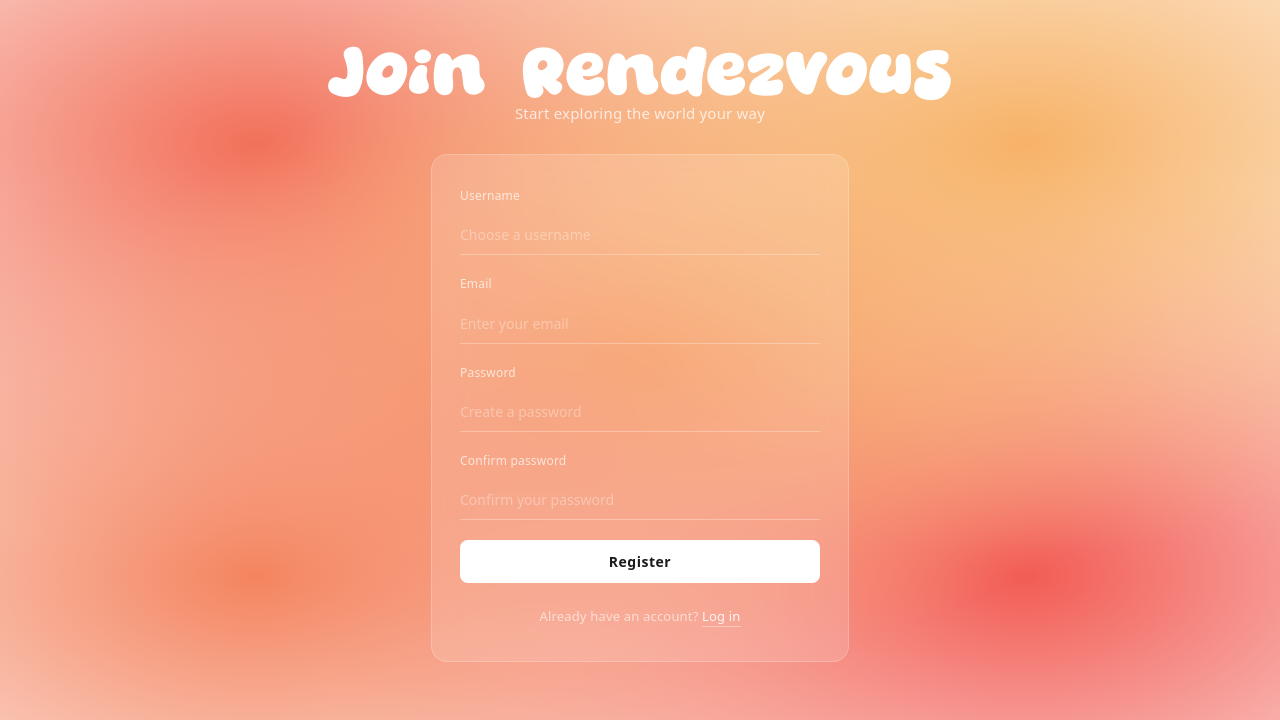
Scenario: Register page › shows error when passwords do not match
This screenshot has width=1280, height=720.
Type "alice" into the field labelled "Username" at (640, 236), box [460,216,820,256]
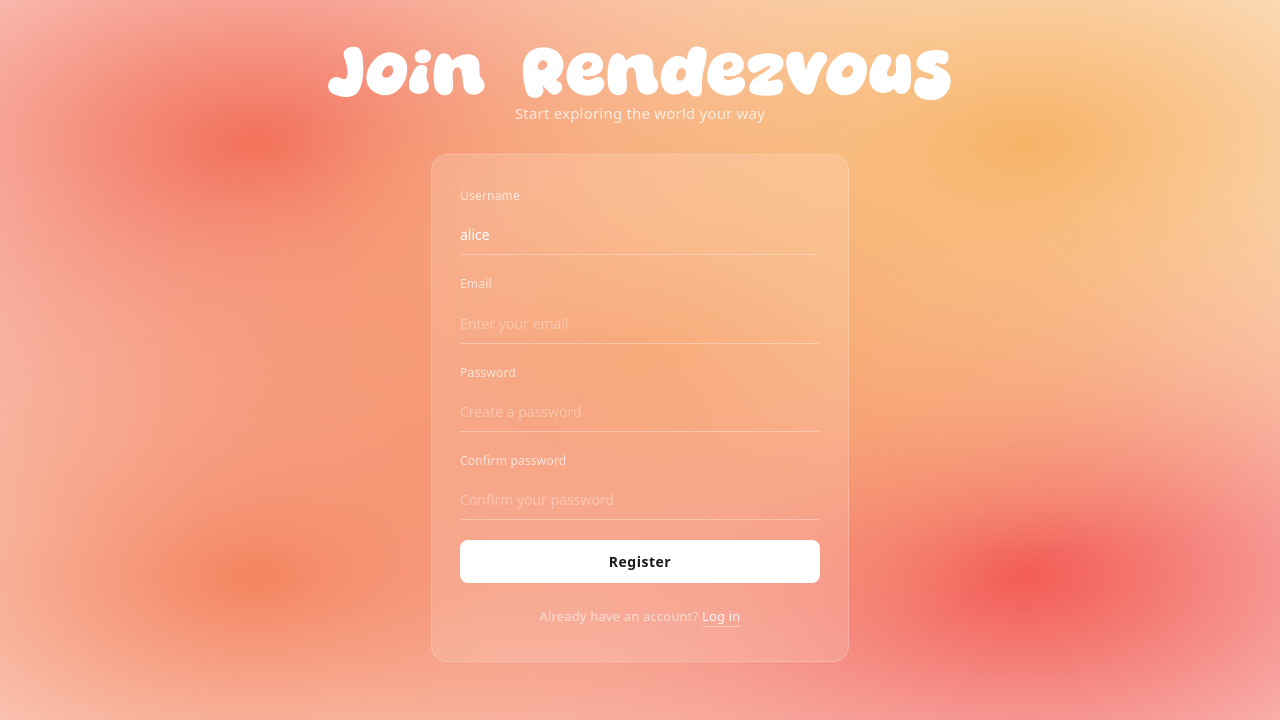
Type "a@b.com" into the field labelled "Email" at (640, 324), box [460,304,820,344]
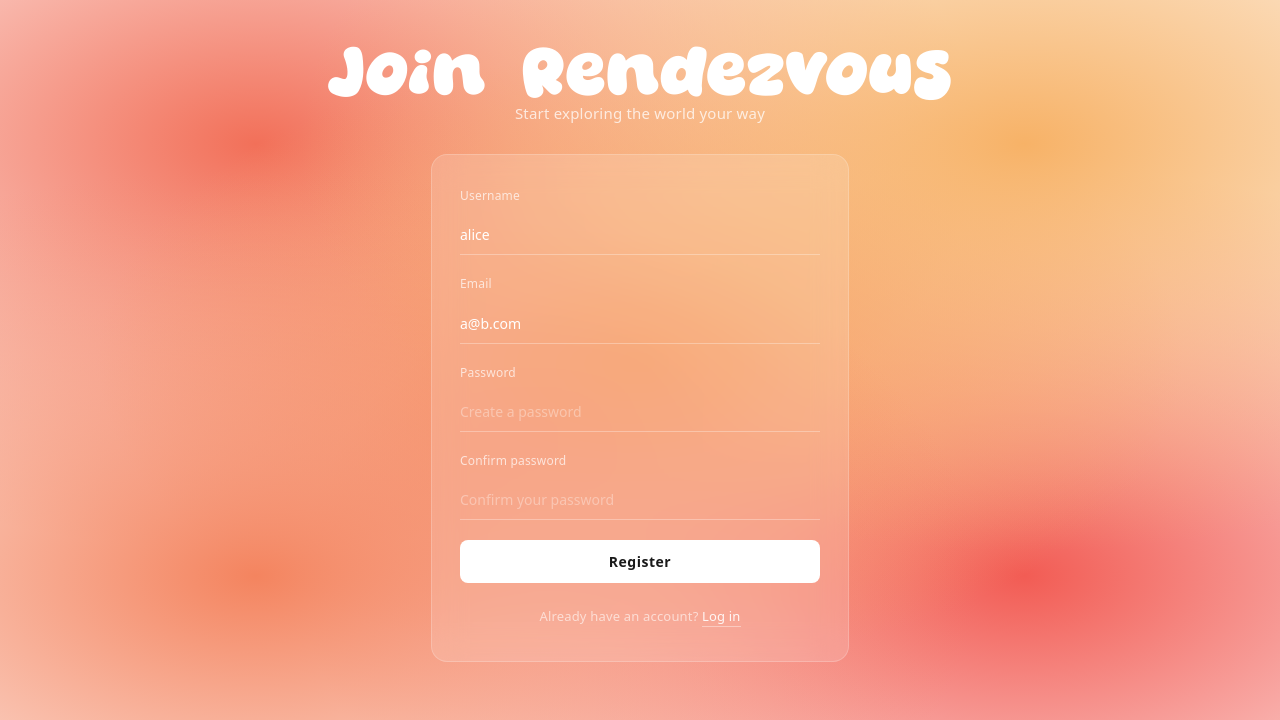
Type "Pass123!" into the password field labelled "Password" at (640, 412), box [460,392,820,432]
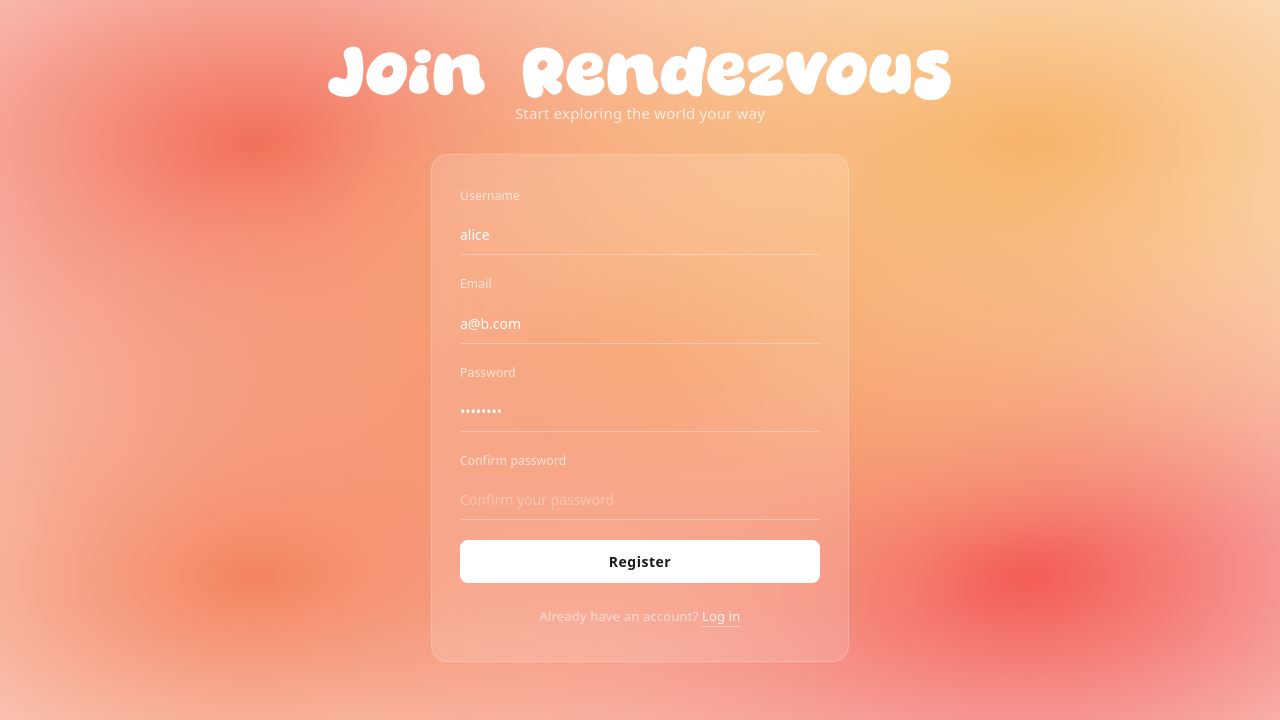
Type "Different!" into the password field labelled "Confirm password" at (640, 500), box [460,480,820,520]
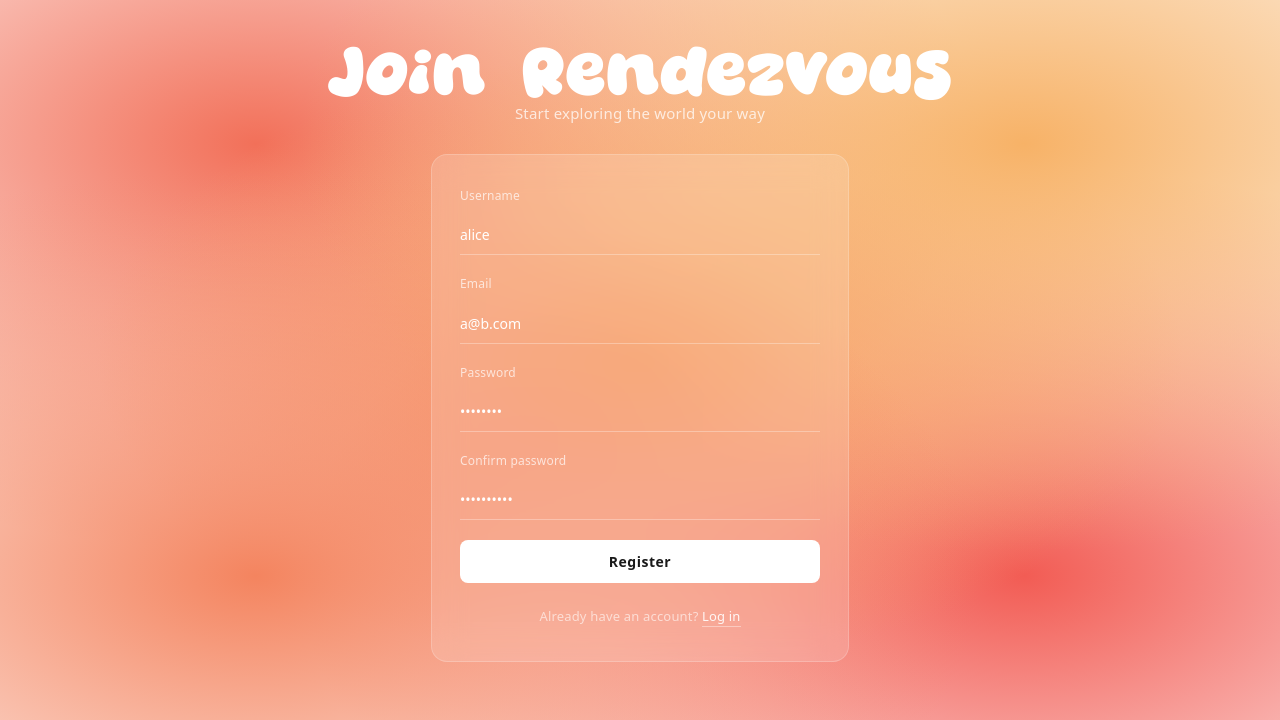
Click the button "Register" at (640, 561), box [460,540,820,583]
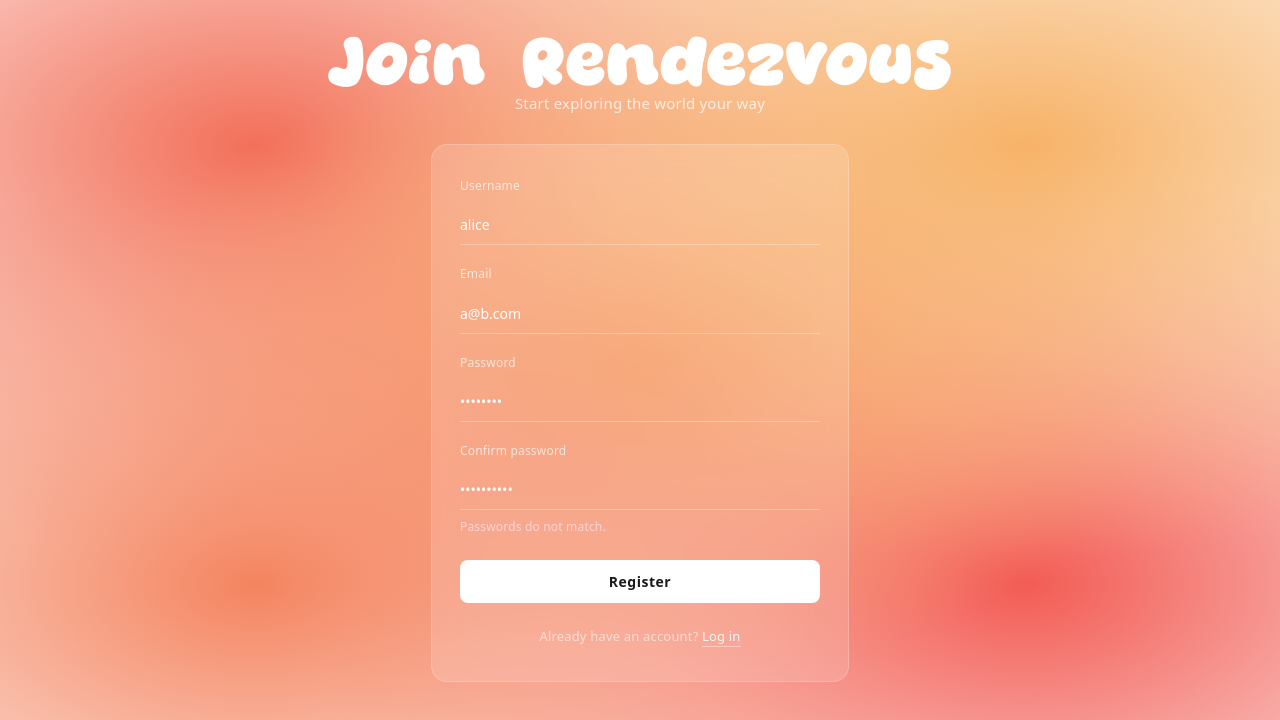
Now the text "Passwords do not match." is shown, box [460,518,606,535]
